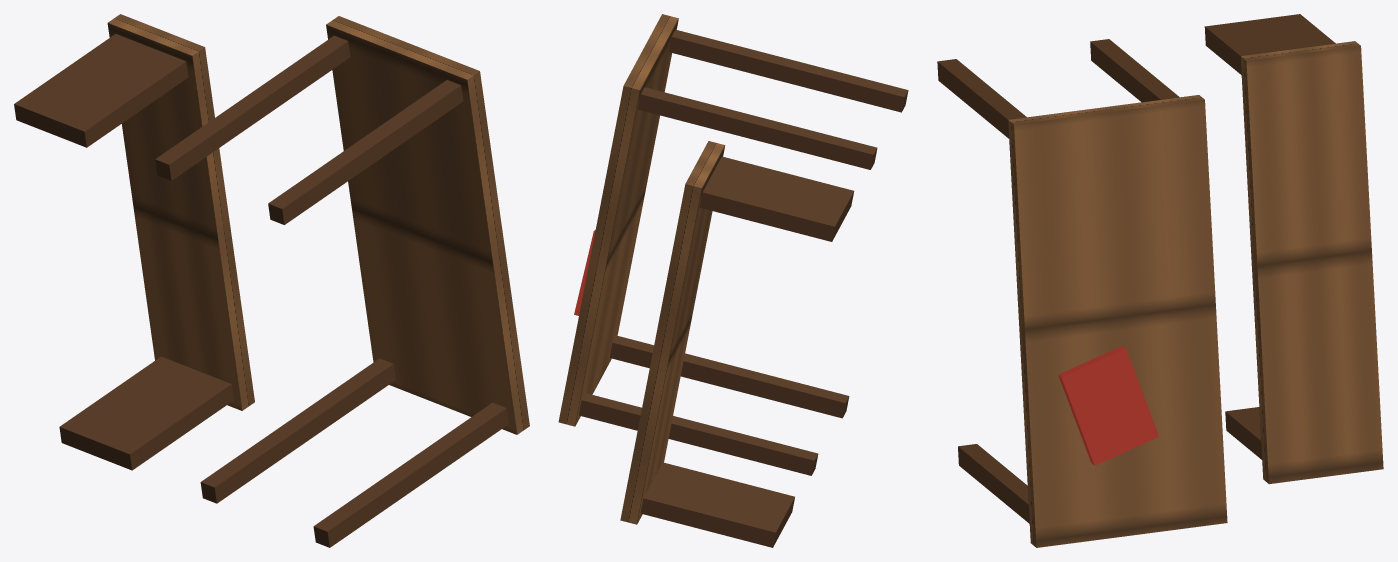
Rendered from prop_meja_rebah.glb.
The picture shows the model from 3 angles, left to right: view 1: azimuth 30°, elevation 25°; view 2: azimuth 150°, elevation 25°; view 3: azimuth 270°, elevation 25°; orthographic projection. The views are drawn at different scales.
Parts seen in each view (by area): view 1: meja_rebah; view 2: meja_rebah; view 3: meja_rebah.
Part boxes in pixels (x1,y1,x2,y2): meja_rebah: (14, 14, 529, 547); meja_rebah: (558, 14, 908, 547); meja_rebah: (937, 14, 1383, 547).
Bounding box in the file's own units: 1.17 × 1.19 × 1.12.
Materials: 3 (1 with a texture image).
